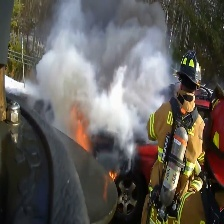fire: (70, 110, 90, 150), (107, 169, 117, 180)
